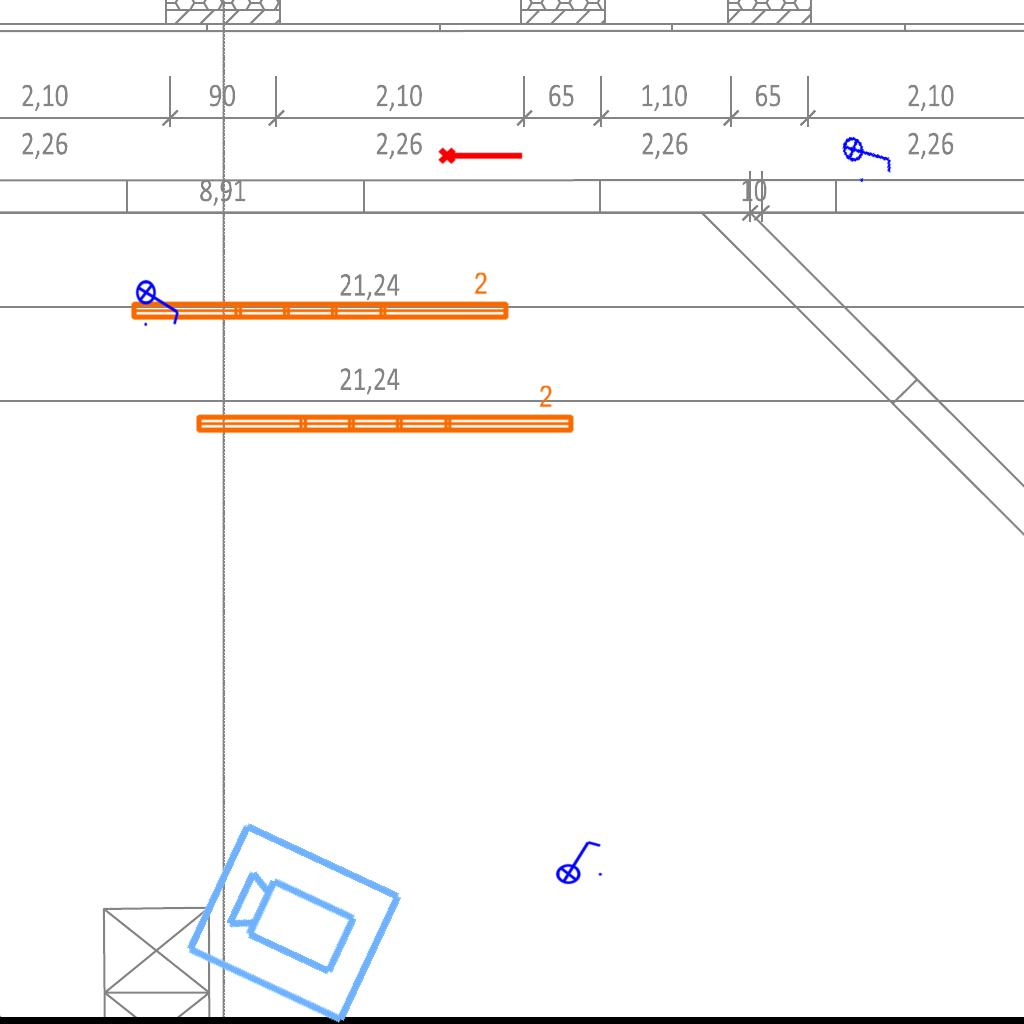ASR_Ansaugoeffnung: (437, 143, 525, 166)
Ambulanz_Pendelleuchte_LED: (126, 270, 513, 326), (191, 383, 578, 439)
Ausschalter_beleuchtet: (837, 120, 899, 188), (549, 837, 605, 885), (135, 273, 183, 329)
KFO_Kamera_mit_Festobjektiv: (179, 813, 411, 1024)
